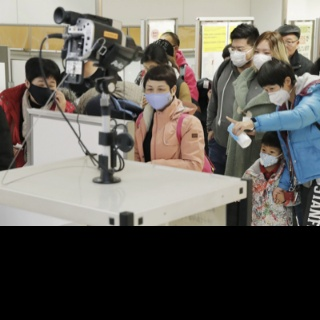with_mask: (144, 82, 172, 108), (30, 78, 56, 104), (229, 42, 252, 68), (264, 83, 287, 106), (252, 45, 272, 71), (259, 144, 278, 168)
